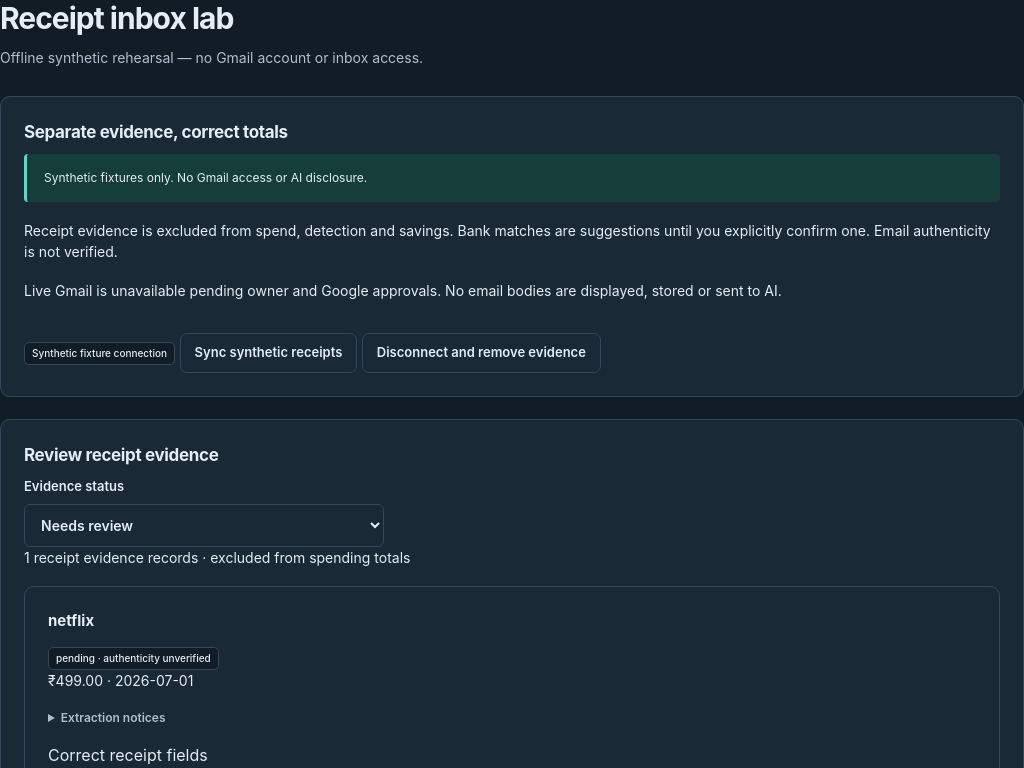
Test: disconnect requires typed confirmation and reports purge; errors remain visible
Click the button "Disconnect and remove evidence" at (481, 353), box left=362, top=333, right=601, bottom=373
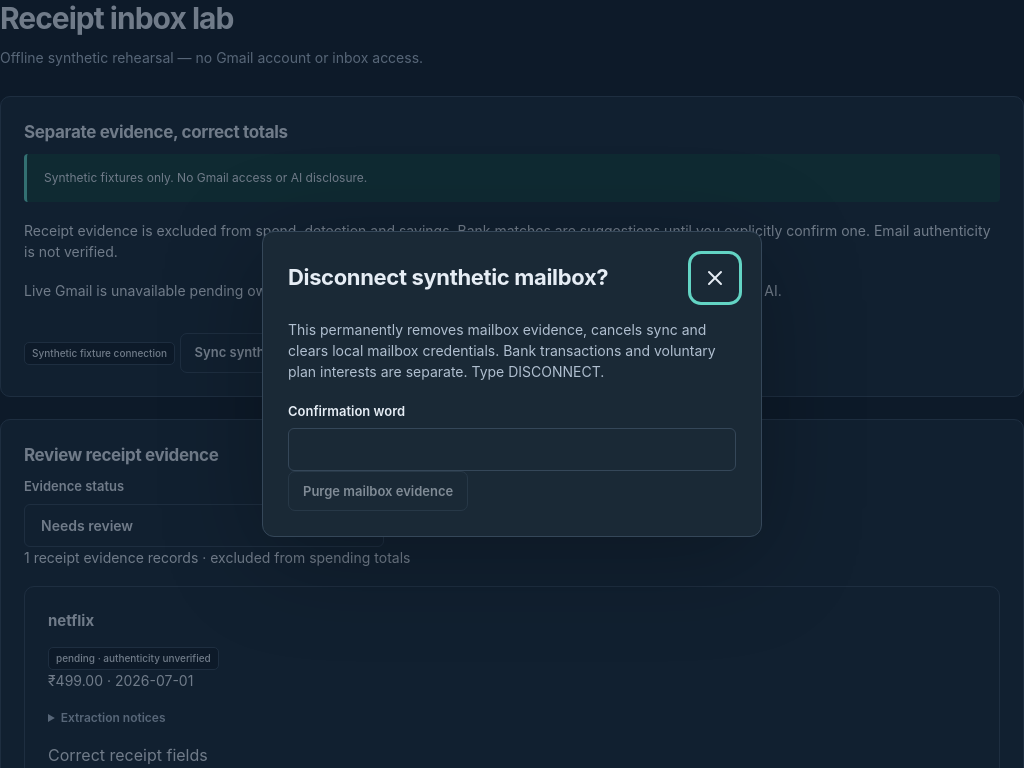
Check: the button "Purge mailbox evidence" is disabled, box left=288, top=471, right=468, bottom=511
Type "DISCONNECT" into the field labelled "Confirmation word" at (512, 450), box left=288, top=428, right=736, bottom=471
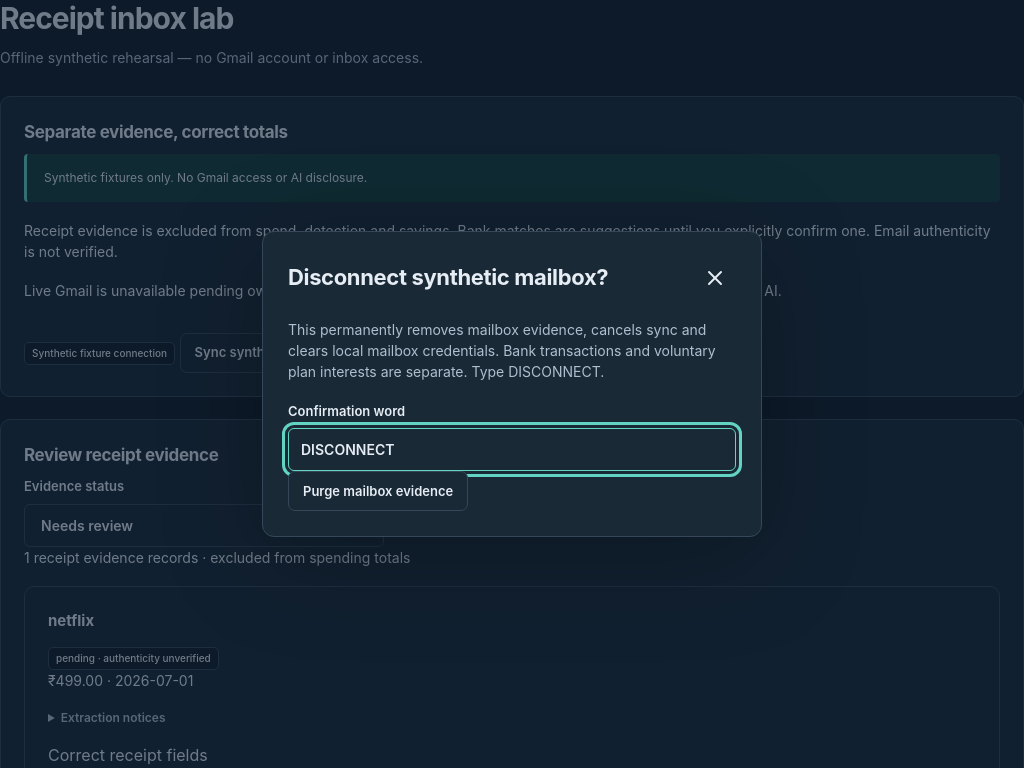
Click the button "Purge mailbox evidence" at (378, 491), box left=288, top=471, right=468, bottom=511
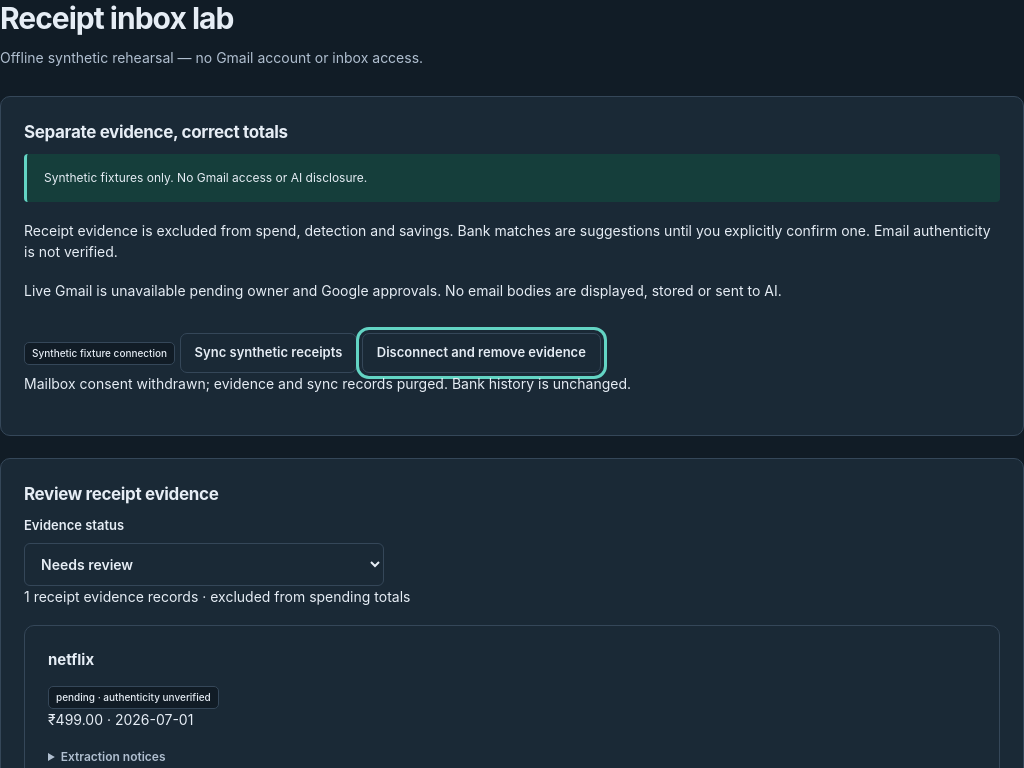
Check: the text "Mailbox consent withdrawn" is shown, box left=24, top=375, right=631, bottom=392
